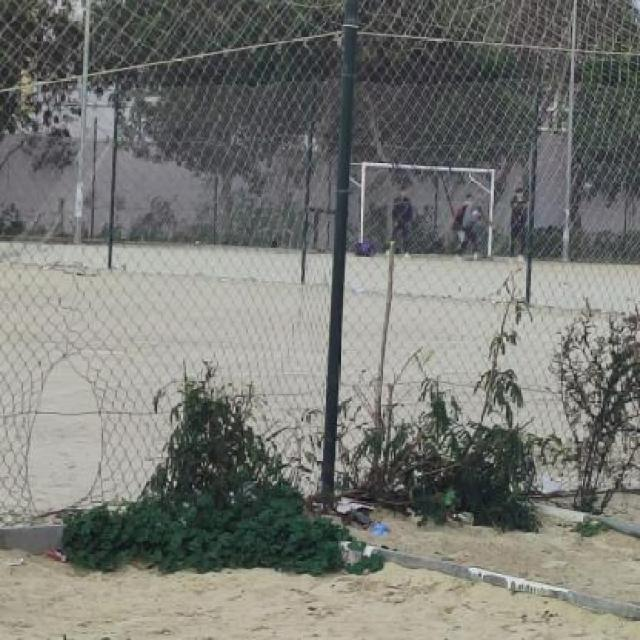fence line: (23, 356, 119, 530)
